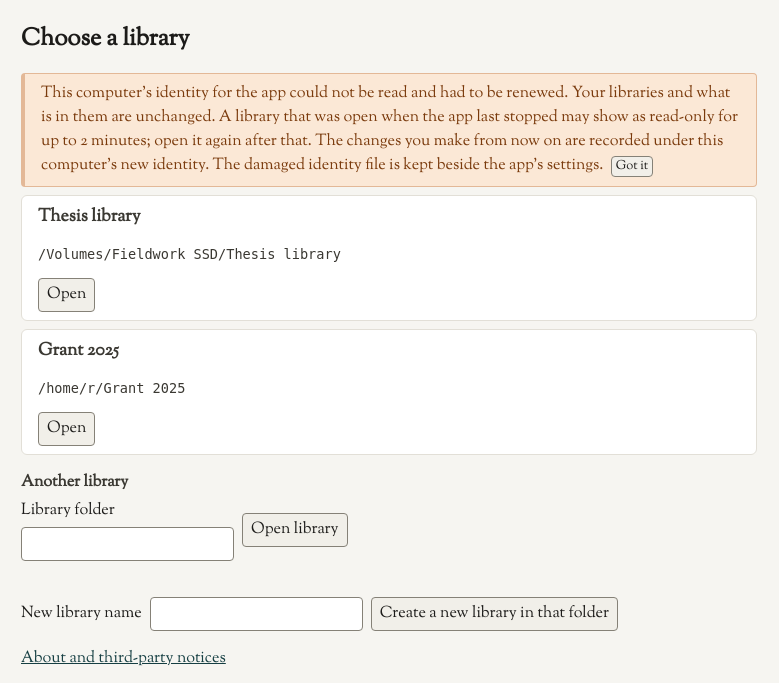
it: device-level notices on the library chooser › shown in the same words as in a library; “Got it” asks once, the banner goes, focus stays on the page's heading
Expected: the text "identity for the app could not be read and had to be renewed" shows "Your libraries and what is in them are unchanged", [41,82,738,177]
Step 1. Double-click the button "Got it" → [632, 167], box [611,156,653,177]
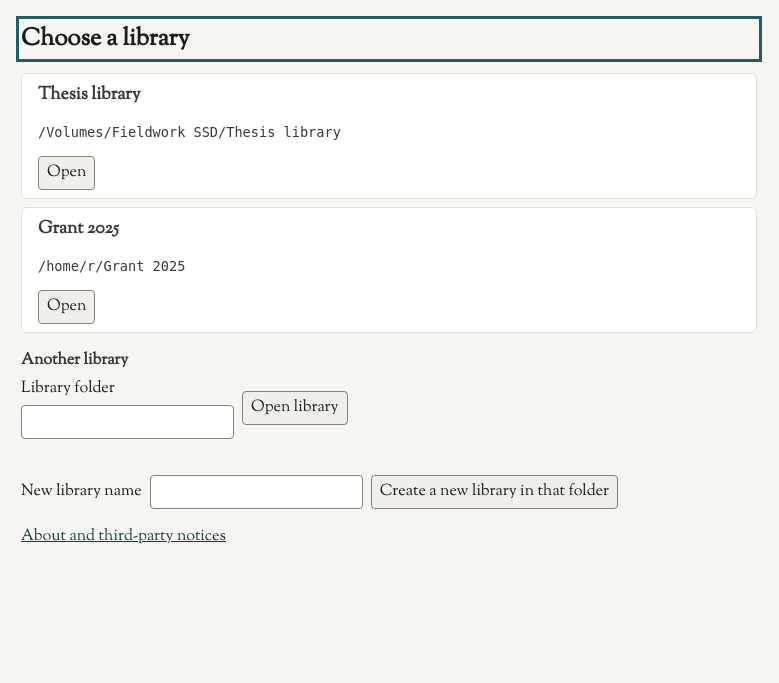
Result: the text "had to be renewed" is gone
